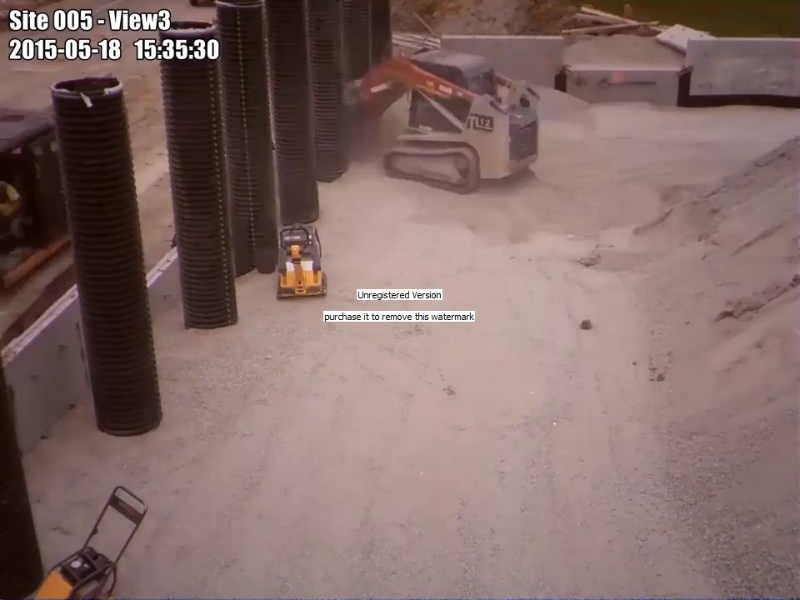bulldozer: (342, 49, 541, 197), (1, 105, 69, 347)
columns: (51, 76, 167, 438), (158, 20, 241, 329), (214, 1, 282, 282), (265, 1, 321, 226), (309, 1, 349, 183), (338, 1, 374, 156), (371, 1, 391, 62)
wall: (545, 35, 800, 111)
wood: (559, 5, 675, 39)
